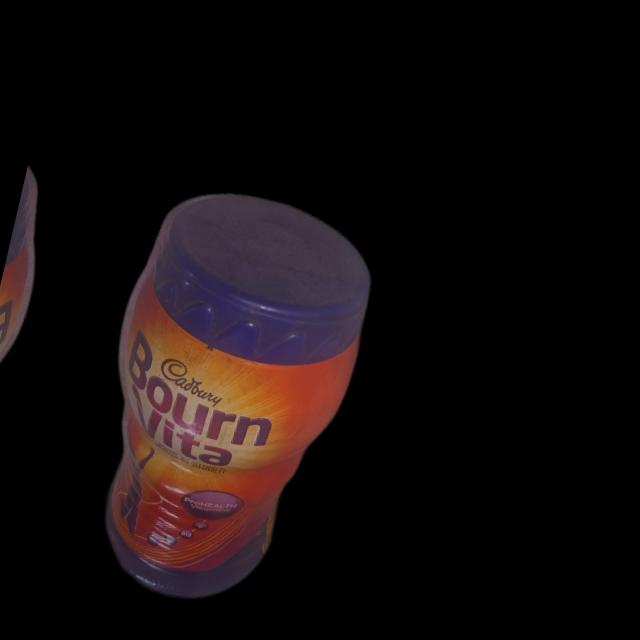Cadbury Bournvita Chocolate Health Drink-1kg-: (63, 172, 394, 624)
